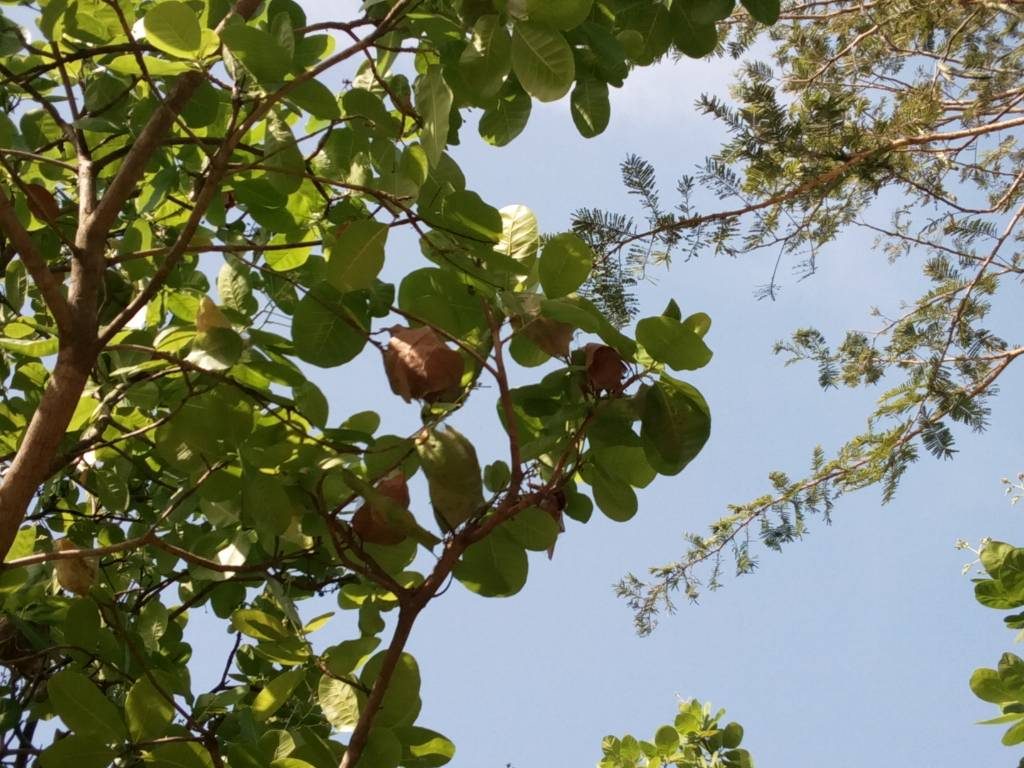Dessèchement des bourgeons: (274, 540, 361, 591)
